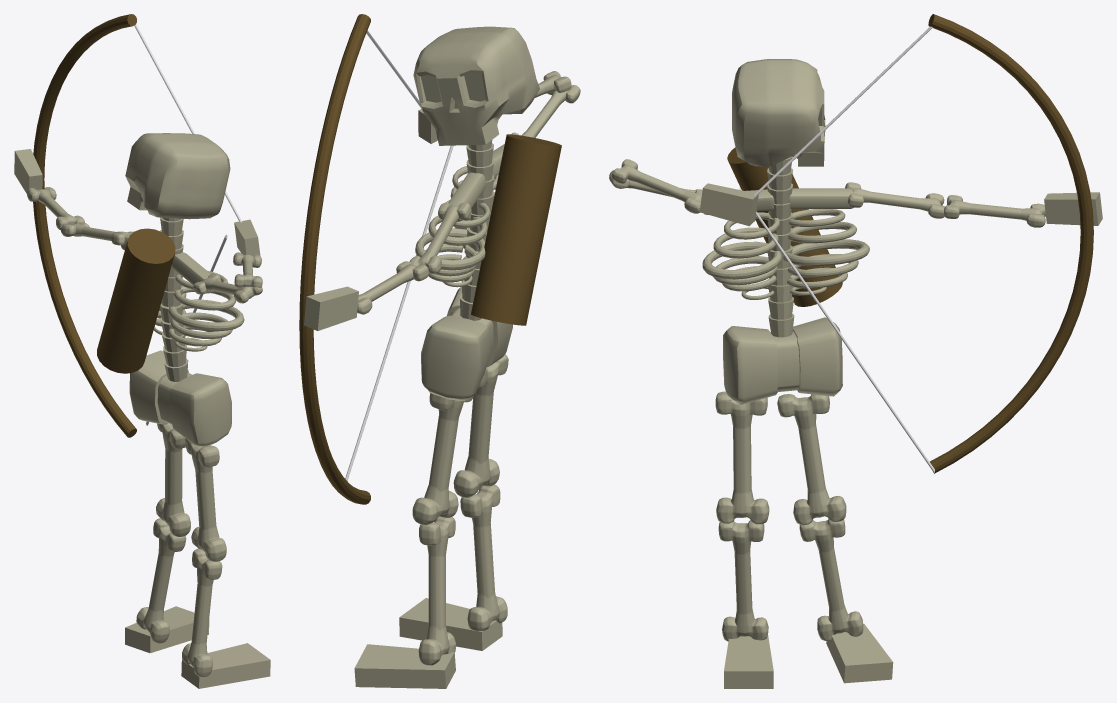
Rendered from RangedSkele.fbx.
3 views of the same model, side by side, from view 1: azimuth 30°, elevation 25°; view 2: azimuth 150°, elevation 25°; view 3: azimuth 270°, elevation 25° (orthographic). The views are drawn at different scales.
Visible parts, largest first — view 1: Bones, Quiver, Bow, BowString; view 2: Bones, Quiver, Bow, Bowstring; view 3: Bones, Bow, Quiver, Bowstring, BowString.
Part boxes in pixels (left/top/right/bottom): Bones: left=14, top=133, right=270, bottom=688; Quiver: left=97, top=228, right=175, bottom=373; Bow: left=33, top=14, right=136, bottom=437; BowString: left=134, top=24, right=242, bottom=222; Bones: left=304, top=26, right=580, bottom=688; Quiver: left=471, top=134, right=561, bottom=325; Bow: left=299, top=14, right=370, bottom=504; Bowstring: left=345, top=145, right=453, bottom=480; Bones: left=609, top=59, right=1102, bottom=688; Bow: left=928, top=14, right=1093, bottom=473; Quiver: left=727, top=147, right=842, bottom=306; Bowstring: left=739, top=187, right=934, bottom=473; BowString: left=753, top=26, right=932, bottom=196.
Bounding box in the file's own units: 1.86 × 8.38 × 5.76.
